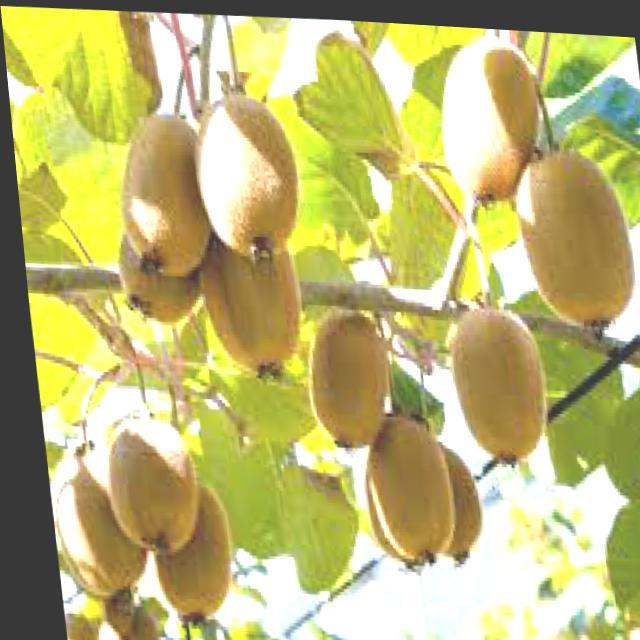kiwi: (507, 135, 636, 333), (186, 70, 302, 258), (105, 97, 220, 279), (429, 27, 546, 202), (185, 217, 301, 376), (436, 294, 543, 465), (36, 434, 138, 602), (346, 404, 450, 568), (87, 406, 195, 558), (128, 473, 228, 627), (289, 300, 386, 444), (104, 209, 198, 323)
